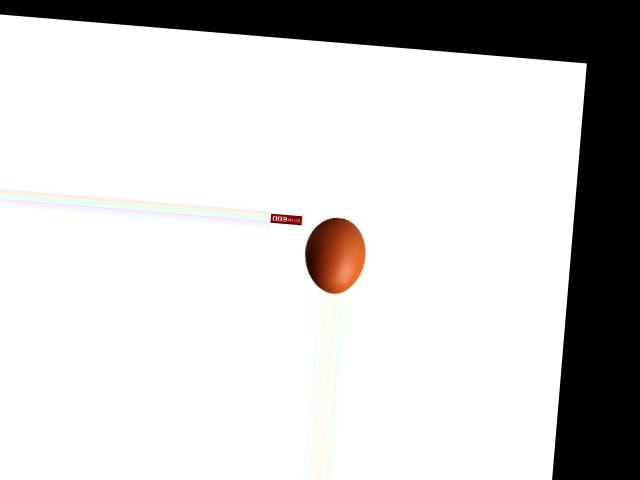egg: (303, 215, 368, 294)
